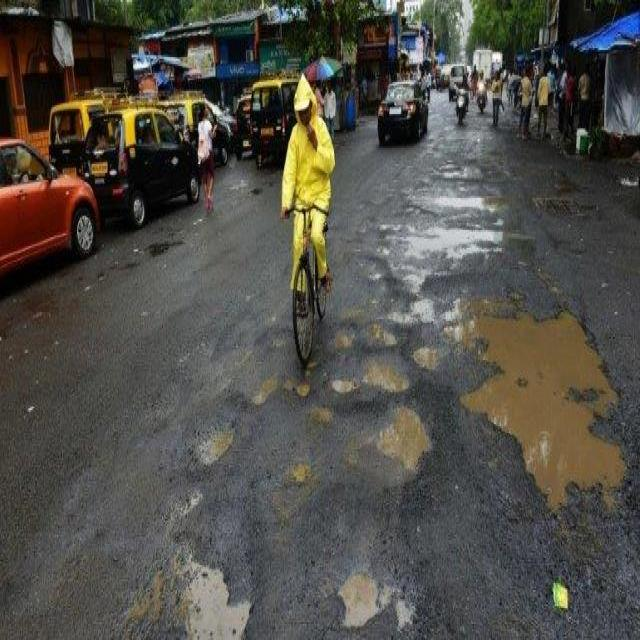lubang: (442, 274, 638, 512), (157, 510, 259, 640), (328, 540, 428, 638), (388, 221, 545, 262), (377, 401, 435, 483), (406, 184, 516, 214), (183, 415, 239, 469), (362, 356, 413, 396), (279, 454, 327, 496), (250, 367, 281, 408), (360, 321, 397, 351), (329, 367, 359, 401), (413, 346, 441, 378), (408, 296, 435, 323), (333, 325, 355, 351), (387, 307, 408, 326), (307, 404, 327, 422)
